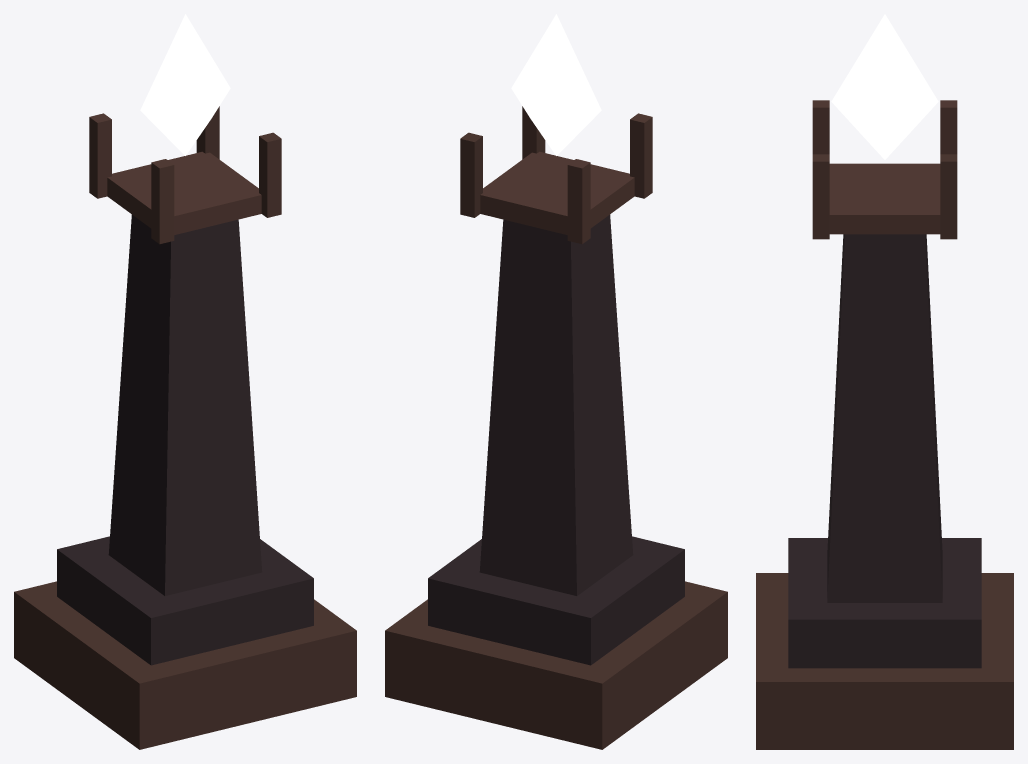
File: switch_obelisk.glb
The picture shows the model from 3 angles, left to right: view 1: azimuth 30°, elevation 25°; view 2: azimuth 150°, elevation 25°; view 3: azimuth 270°, elevation 25°; orthographic projection. The views are drawn at different scales.
Visible parts, largest first — view 1: switch_obelisk, Crystal; view 2: switch_obelisk, Crystal; view 3: switch_obelisk, Crystal.
Part boxes in pixels (x1,y1,x2,y2): switch_obelisk: [14, 106, 356, 749]; Crystal: [140, 14, 230, 155]; switch_obelisk: [385, 106, 727, 749]; Crystal: [511, 14, 601, 155]; switch_obelisk: [756, 100, 1013, 749]; Crystal: [831, 14, 938, 159].
Size of the model in its own units: 1.2 by 3.5 by 1.2.
